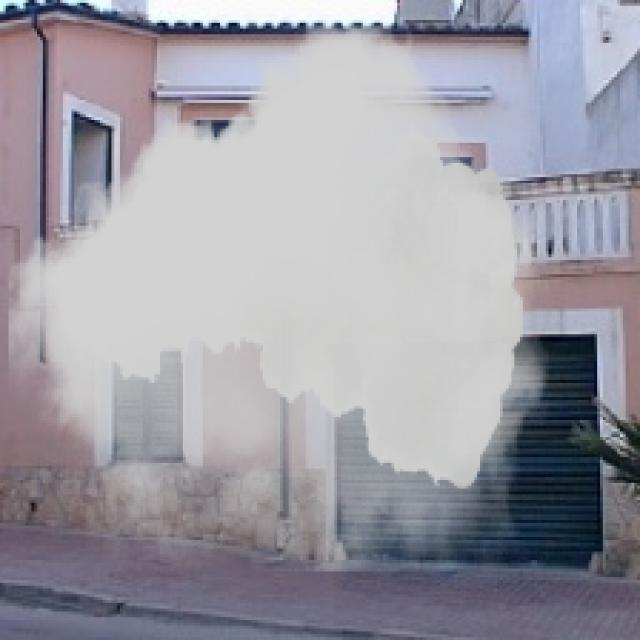smoke: (9, 23, 548, 571)
